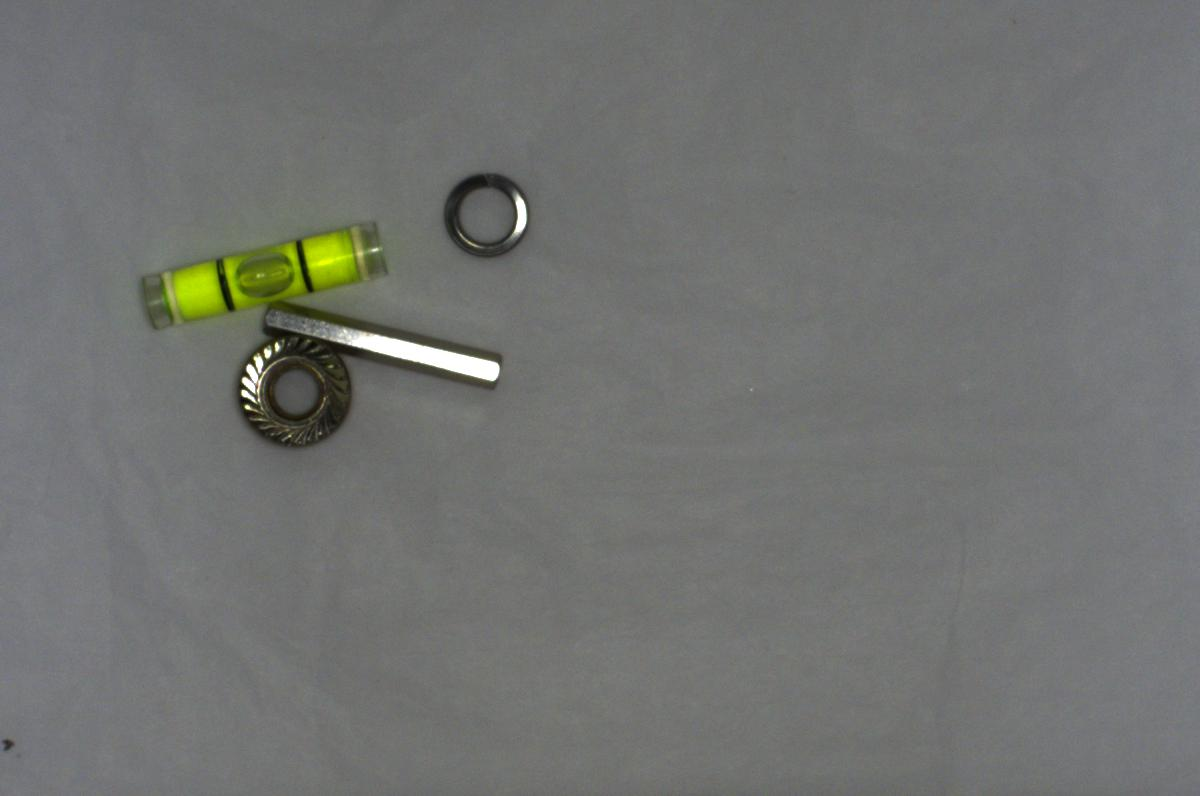Double hexagonal column: (259, 298, 508, 400)
Flange nut: (225, 335, 354, 447)
Horizontal bubble: (126, 210, 393, 330)
Spring washer: (439, 166, 537, 261)
